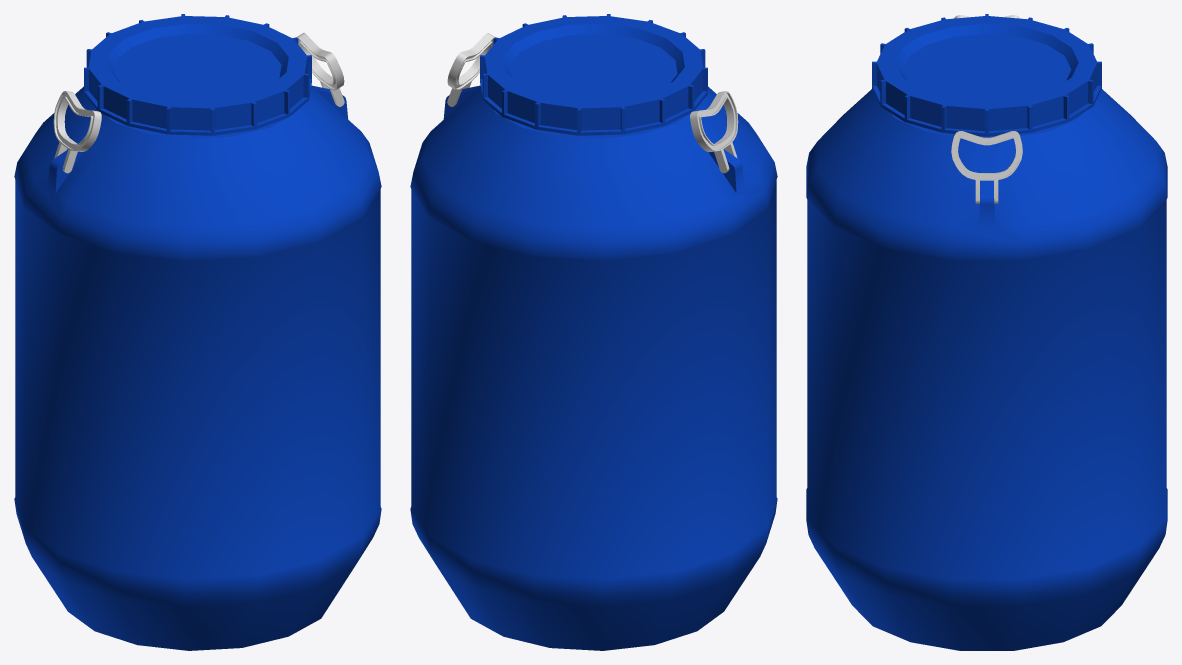
The model's file is SM_废液桶001.fbx.
3 renders of one model, left to right at view 1: azimuth 30°, elevation 25°; view 2: azimuth 150°, elevation 25°; view 3: azimuth 270°, elevation 25°, orthographic.
Visible parts, largest first — view 1: SM_废液桶001; view 2: SM_废液桶001; view 3: SM_废液桶001.
Boxes of the visible parts, left/top/right/bottom form: SM_废液桶001: left=14, top=14, right=381, bottom=650; SM_废液桶001: left=410, top=14, right=777, bottom=650; SM_废液桶001: left=806, top=14, right=1167, bottom=650.
Size of the model in its own units: 39.24 by 63.67 by 39.24.
